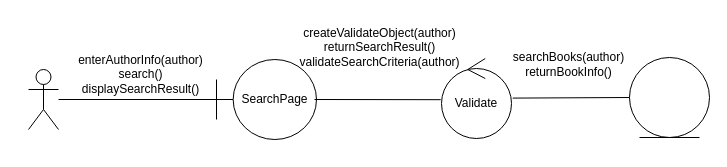
The diagram is 727 pixels wide and 167 high, and some of its shapes have lost their labels. Each missing label, with the centre of its shape:
"Catalogue" goes at point (669, 97).
"Customer" goes at point (43, 99).
